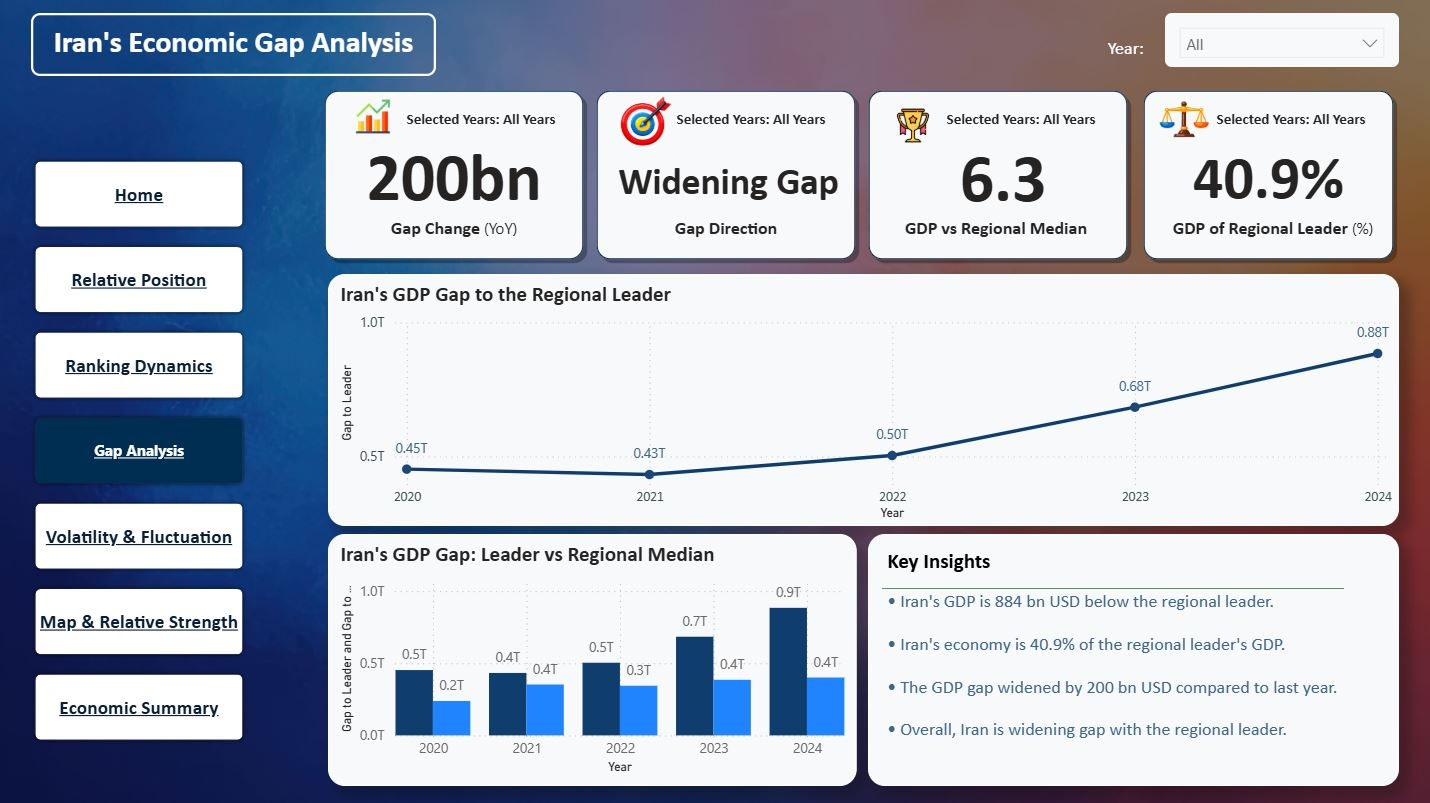

The dashboard page shown, as its layout file describes it:
{"tool":"powerbi","page":{"name":"Gap Analysis","canvas":[1280,720],"ordinal":3},"visuals":[{"type":"slicer","fields":{"Values":["DimDate.Year"]},"box":[1040,16,208,48],"z":0},{"type":"shape","box":[288,80,240,160],"z":0,"group":"g1"},{"type":"shape","box":[530,80,240,160],"z":0,"group":"g2"},{"type":"shape","box":[772,80,240,160],"z":0,"group":"g3"},{"type":"shape","box":[1016,80,232,160],"z":0,"group":"g4"},{"type":"textbox","box":[984,32,56,32],"z":1000},{"type":"card","fields":{"Values":["Measure.GapChangeYoYDisplay"]},"box":[288,120,240,72],"z":1000,"group":"g1"},{"type":"card","fields":{"Values":["Measure.GDPRank"]},"box":[528,128,240,64],"z":2000},{"type":"pageNavigator","box":[32,144,192,528],"z":3000},{"type":"textbox","box":[530,192,240,48],"z":3000,"group":"g2"},{"type":"textbox","box":[32,16,360,56],"z":4000},{"type":"textbox","box":[288,192,240,48],"z":4000,"group":"g1"},{"type":"textbox","box":[770,192,240,48],"z":4000,"group":"g3"},{"type":"textbox","box":[1016,192,240,64],"z":4000,"group":"g4"},{"type":"group","id":"g1","title":"Group 1","box":[288,80,240,160],"z":5000},{"type":"group","id":"g2","title":"Group 1","box":[530,80,240,160],"z":6000},{"type":"group","id":"g3","title":"Group 1","box":[770,80,242,160],"z":7000},{"type":"group","id":"g4","title":"Group 1","box":[1016,80,240,176],"z":8000},{"type":"lineChart","title":"Iran''s GDP Gap to the Regional Leader","fields":{"Category":["DimDate.Year"],"Y":["Measure.GaptoLeader"]},"box":[296,248,952,224],"z":9000},{"type":"card","fields":{"Values":["Measure.SelectedYear"]},"box":[352,80,160,64],"z":10000},{"type":"card","fields":{"Values":["Measure.SelectedYear"]},"box":[1072,80,160,64],"z":11000},{"type":"card","fields":{"Values":["Measure.SelectedYear"]},"box":[832,80,160,64],"z":12000},{"type":"card","fields":{"Values":["Measure.SelectedYear"]},"box":[592,80,160,64],"z":13000},{"type":"card","fields":{"Values":["Measure.GDPofRegionalMedian%"]},"box":[776,136,240,64],"z":14000},{"type":"card","fields":{"Values":["Measure.GapDirection"]},"box":[536,136,232,56],"z":15000},{"type":"card","fields":{"Values":["Measure.GDPofRegionalLeader%"]},"box":[1016,136,232,64],"z":16000},{"type":"clusteredColumnChart","title":"Iran''s GDP Gap: Leader vs Regional Median","fields":{"Category":["DimDate.Year"],"Y":["Measure.GaptoLeader","Measure.GaptoMedian"]},"box":[296,479.2,470,224],"z":17000},{"type":"tableEx","title":"Key Insights and Executive Summary","fields":{"Values":["Measure.P3Insights"]},"box":[776,479.2,472,224],"z":18000},{"type":"image","box":[544,80,64,64],"z":19000},{"type":"image","box":[1024,80,64,64],"z":20000},{"type":"image","box":[312,88,48,40],"z":21000},{"type":"image","box":[792,96,48,40],"z":22000}]}

Visuals, with their boxes in screenshot pixels (x1, y1, x2, y2), scaled from the page's 1280x720 canvas onto the 1430x803 screenshot:
slicer - DimDate.Year: pyautogui.locateOnScreen(1162, 18, 1394, 71)
shape: pyautogui.locateOnScreen(322, 89, 590, 268)
shape: pyautogui.locateOnScreen(592, 89, 860, 268)
shape: pyautogui.locateOnScreen(862, 89, 1131, 268)
shape: pyautogui.locateOnScreen(1135, 89, 1394, 268)
textbox: pyautogui.locateOnScreen(1099, 36, 1162, 71)
card - Measure.GapChangeYoYDisplay: pyautogui.locateOnScreen(322, 134, 590, 214)
card - Measure.GDPRank: pyautogui.locateOnScreen(590, 143, 858, 214)
pageNavigator: pyautogui.locateOnScreen(36, 161, 250, 749)
textbox: pyautogui.locateOnScreen(592, 214, 860, 268)
textbox: pyautogui.locateOnScreen(36, 18, 438, 80)
textbox: pyautogui.locateOnScreen(322, 214, 590, 268)
textbox: pyautogui.locateOnScreen(860, 214, 1128, 268)
textbox: pyautogui.locateOnScreen(1135, 214, 1403, 286)
"Group 1" group: pyautogui.locateOnScreen(322, 89, 590, 268)
"Group 1" group: pyautogui.locateOnScreen(592, 89, 860, 268)
"Group 1" group: pyautogui.locateOnScreen(860, 89, 1131, 268)
"Group 1" group: pyautogui.locateOnScreen(1135, 89, 1403, 286)
"Iran''s GDP Gap to the Regional Leader" lineChart: pyautogui.locateOnScreen(331, 277, 1394, 526)
card - Measure.SelectedYear: pyautogui.locateOnScreen(393, 89, 572, 161)
card - Measure.SelectedYear: pyautogui.locateOnScreen(1198, 89, 1376, 161)
card - Measure.SelectedYear: pyautogui.locateOnScreen(930, 89, 1108, 161)
card - Measure.SelectedYear: pyautogui.locateOnScreen(661, 89, 840, 161)
card - Measure.GDPofRegionalMedian%: pyautogui.locateOnScreen(867, 152, 1135, 223)
card - Measure.GapDirection: pyautogui.locateOnScreen(599, 152, 858, 214)
card - Measure.GDPofRegionalLeader%: pyautogui.locateOnScreen(1135, 152, 1394, 223)
"Iran''s GDP Gap: Leader vs Regional Median" clusteredColumnChart: pyautogui.locateOnScreen(331, 534, 856, 784)
"Key Insights and Executive Summary" tableEx: pyautogui.locateOnScreen(867, 534, 1394, 784)
image: pyautogui.locateOnScreen(608, 89, 679, 161)
image: pyautogui.locateOnScreen(1144, 89, 1216, 161)
image: pyautogui.locateOnScreen(349, 98, 402, 143)
image: pyautogui.locateOnScreen(885, 107, 938, 152)
